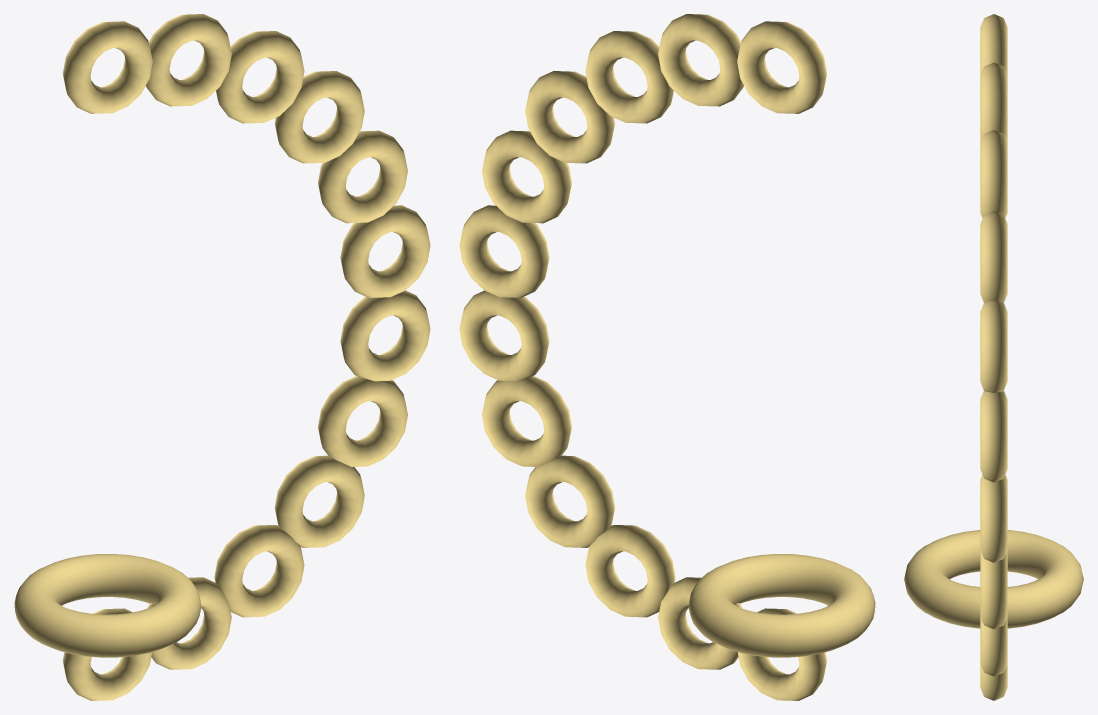
File: test-necklace.glb
3 renders of one model, left to right at view 1: azimuth 30°, elevation 25°; view 2: azimuth 150°, elevation 25°; view 3: azimuth 270°, elevation 25°, orthographic. The views are drawn at different scales.
Visible parts, largest first — view 1: Model; view 2: Model; view 3: Model.
Part boxes in pixels (x1,y1,x2,y2): Model: (14, 14, 430, 700); Model: (459, 14, 875, 700); Model: (904, 14, 1083, 700).
Size of the model in its own units: 25.82 by 41.6 by 10.4.
